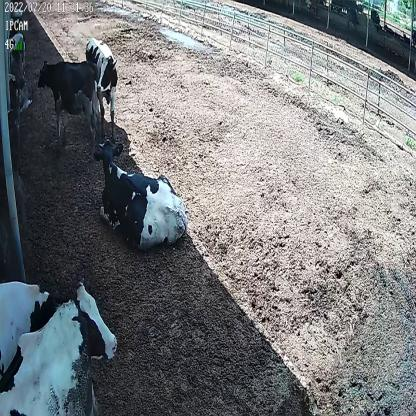cow: (97, 137, 190, 249), (36, 58, 100, 154), (85, 33, 119, 136)
